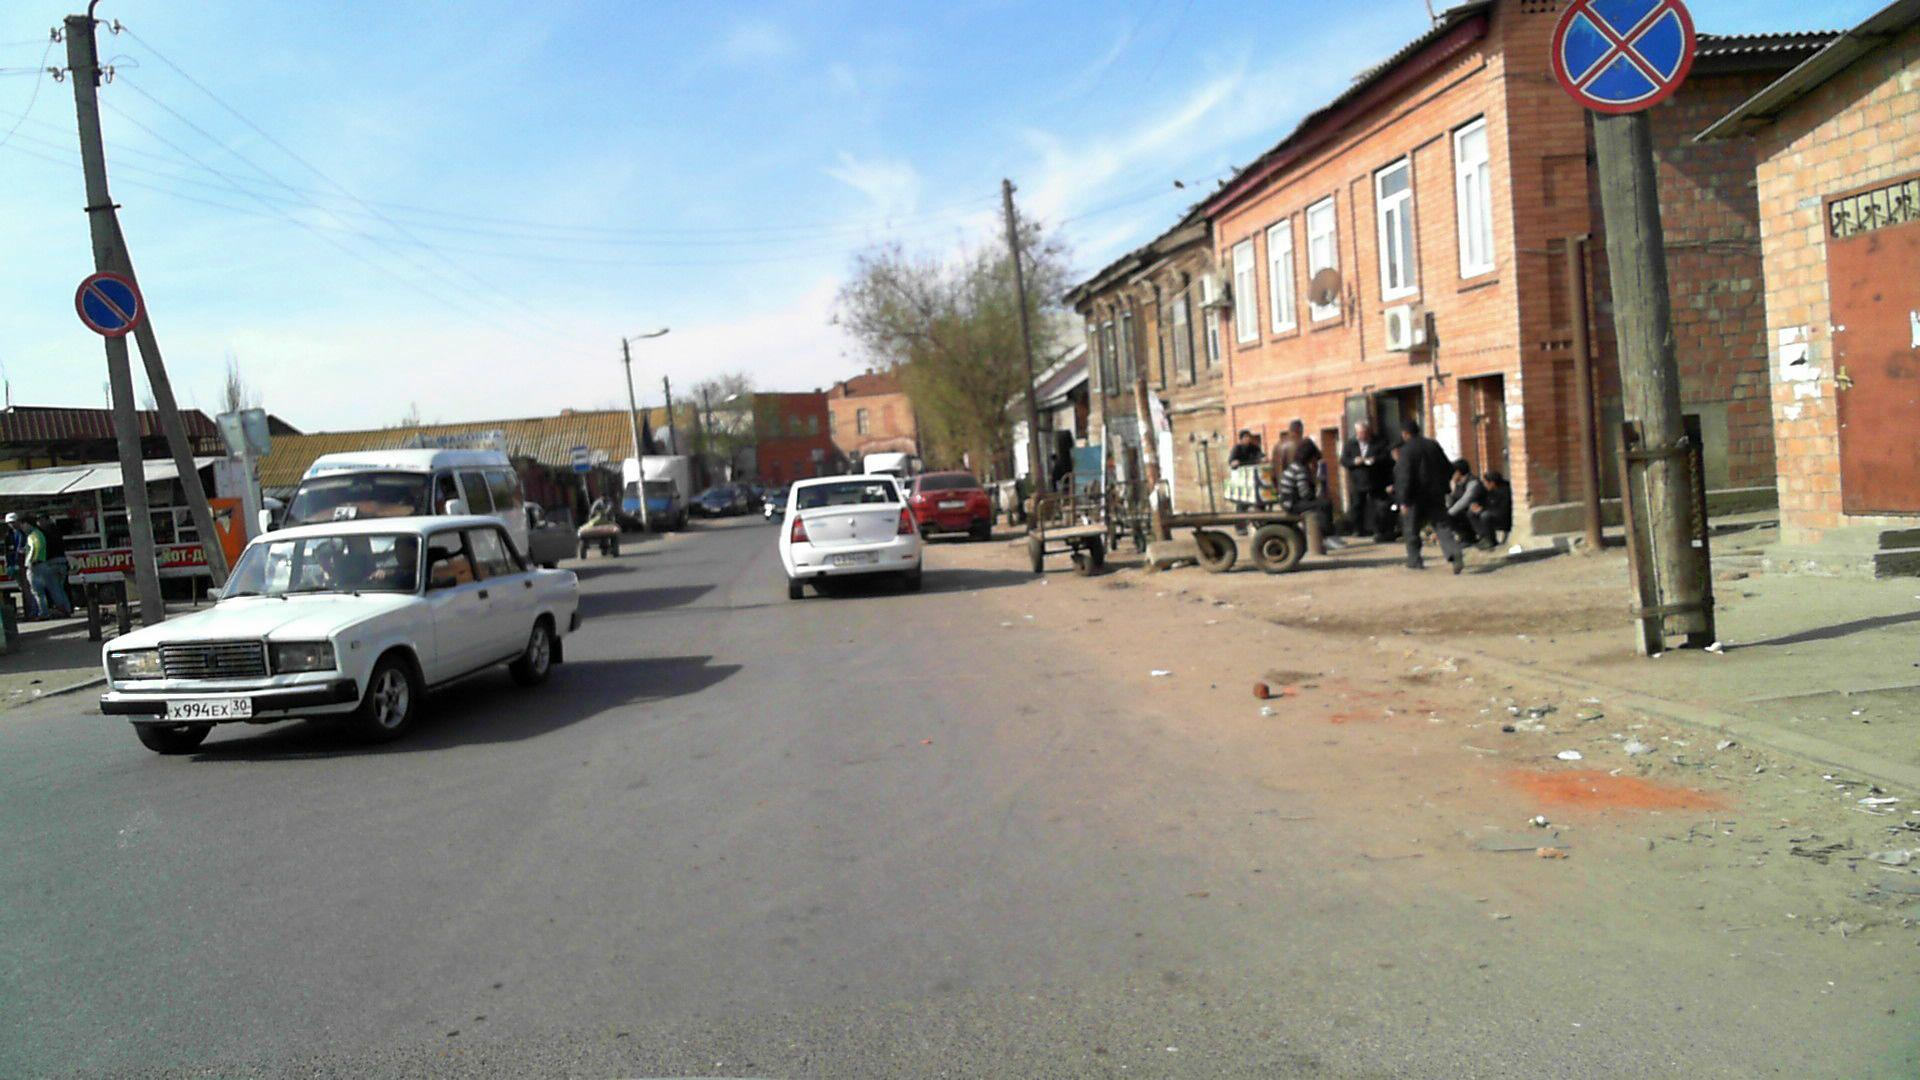3_27: (1545, 0, 1695, 113)
3_28: (76, 272, 141, 336)
5_16: (568, 446, 592, 473)
